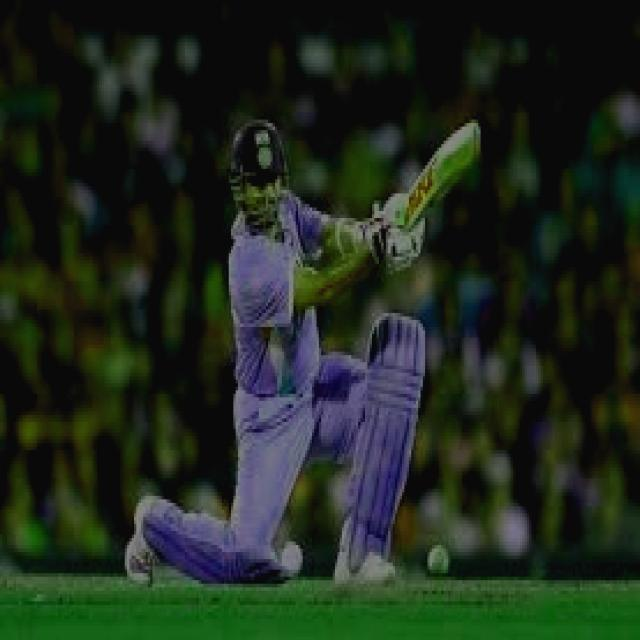toe: (453, 119, 482, 174)
